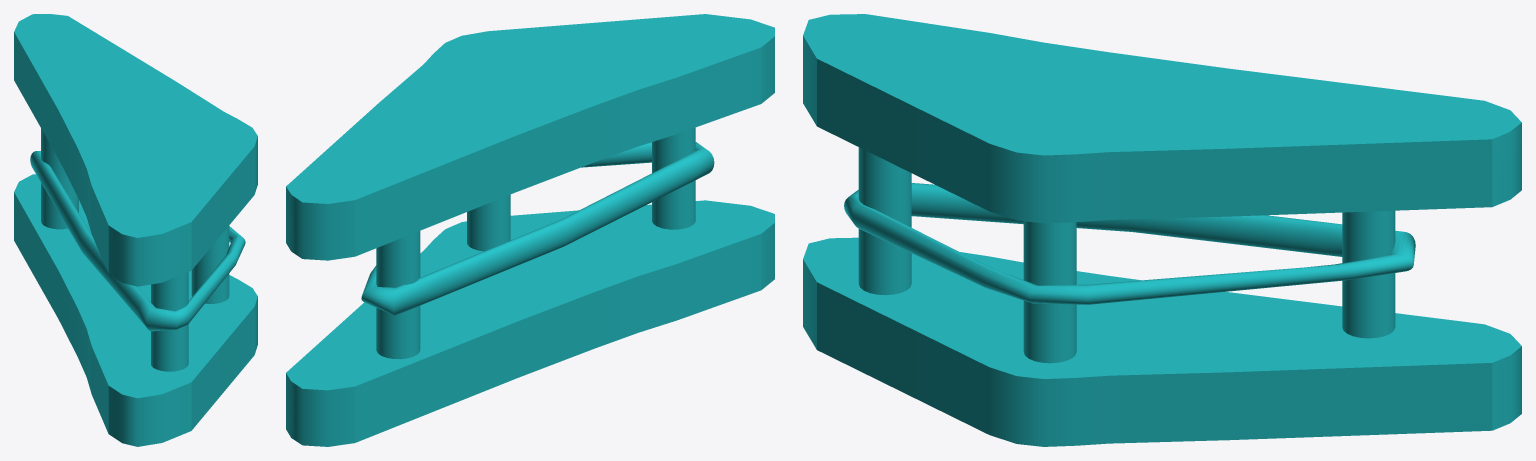
File: Rouch.fbx
The picture shows the model from 3 angles, left to right: view 1: azimuth 30°, elevation 25°; view 2: azimuth 150°, elevation 25°; view 3: azimuth 270°, elevation 25°; orthographic projection. The views are drawn at different scales.
Visible parts, largest first — view 1: Roumpe; view 2: Roumpe; view 3: Roumpe.
Part boxes in pixels (x1,y1,x2,y2): Roumpe: (14,14,257,446); Roumpe: (286,14,774,446); Roumpe: (803,14,1521,446).
Size of the model in its own units: 1.16 by 1.11 by 2.49.
